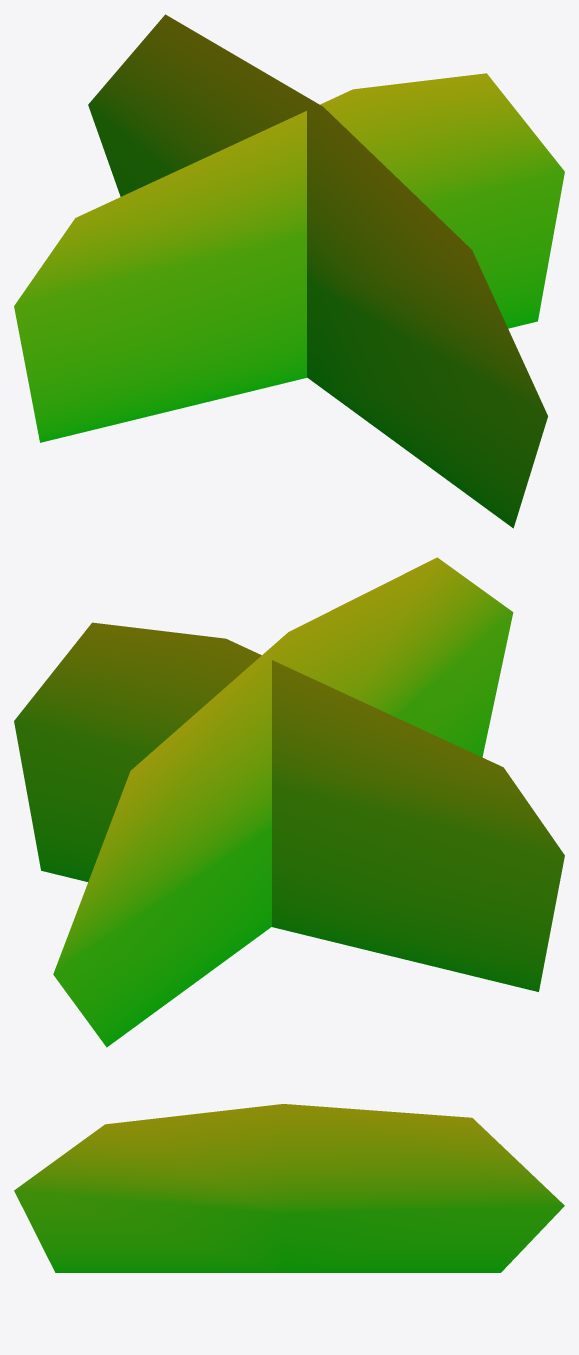
Rendered from Lingonberry_LOD5_Var4_wjhjahlqx.fbx.
3 renders of one model, top to bottom at view 1: azimuth 30°, elevation 25°; view 2: azimuth 150°, elevation 25°; view 3: azimuth 270°, elevation 25°, orthographic. The views are drawn at different scales.
Visible parts, largest first — view 1: _l0yo_Var4_LOD5; view 2: _l0yo_Var4_LOD5; view 3: _l0yo_Var4_LOD5.
Boxes of the visible parts, bbox=[...] form: _l0yo_Var4_LOD5: bbox=[14, 14, 564, 528]; _l0yo_Var4_LOD5: bbox=[14, 557, 564, 1047]; _l0yo_Var4_LOD5: bbox=[14, 1104, 564, 1272].
Bounding box in the file's own units: 37.34 × 18.33 × 54.01.
